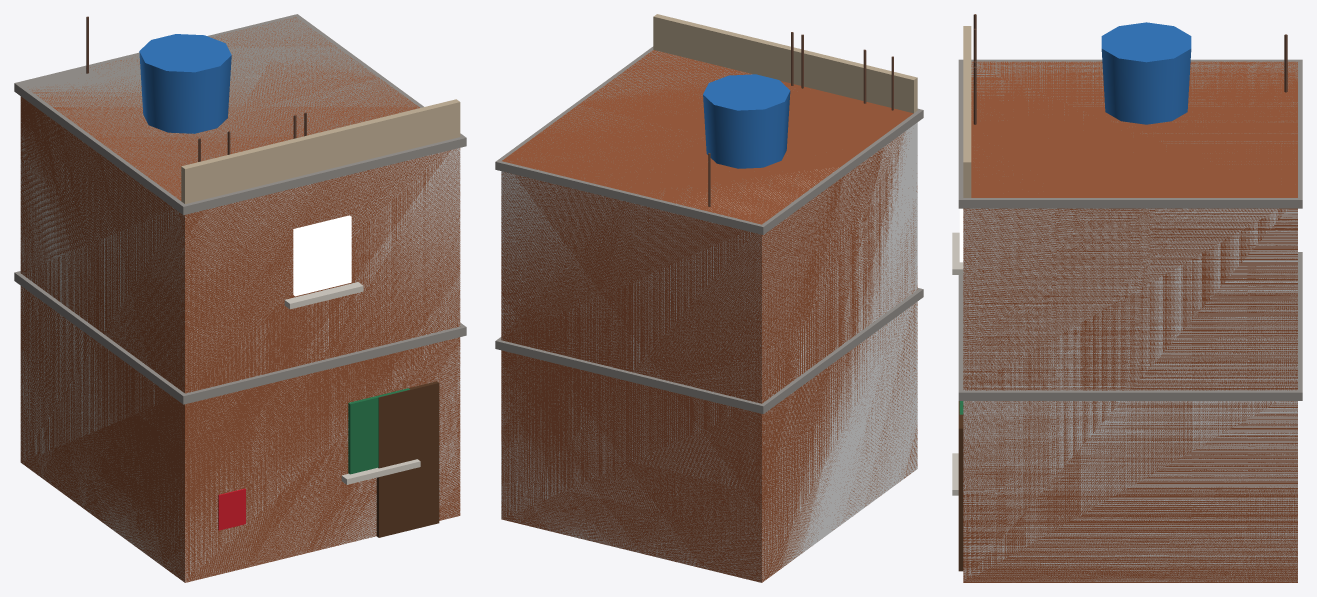
Rendered from casa_favela_8.glb.
3 views of the same model, side by side, from view 1: azimuth 30°, elevation 25°; view 2: azimuth 150°, elevation 25°; view 3: azimuth 270°, elevation 25° (orthographic). The views are drawn at different scales.
Visible parts, largest first — view 1: casa_favela_8_Malla, COL_0; view 2: casa_favela_8_Malla, COL_0; view 3: casa_favela_8_Malla, COL_0.
Boxes of the visible parts, box(x1,y1,x2,y2) form: casa_favela_8_Malla: box(14, 14, 466, 582); COL_0: box(20, 77, 460, 582); casa_favela_8_Malla: box(495, 14, 923, 582); COL_0: box(501, 122, 917, 582); casa_favela_8_Malla: box(952, 14, 1302, 582); COL_0: box(963, 208, 1297, 582).
Size of the model in its own units: 4.23 by 6.3 by 4.45.
